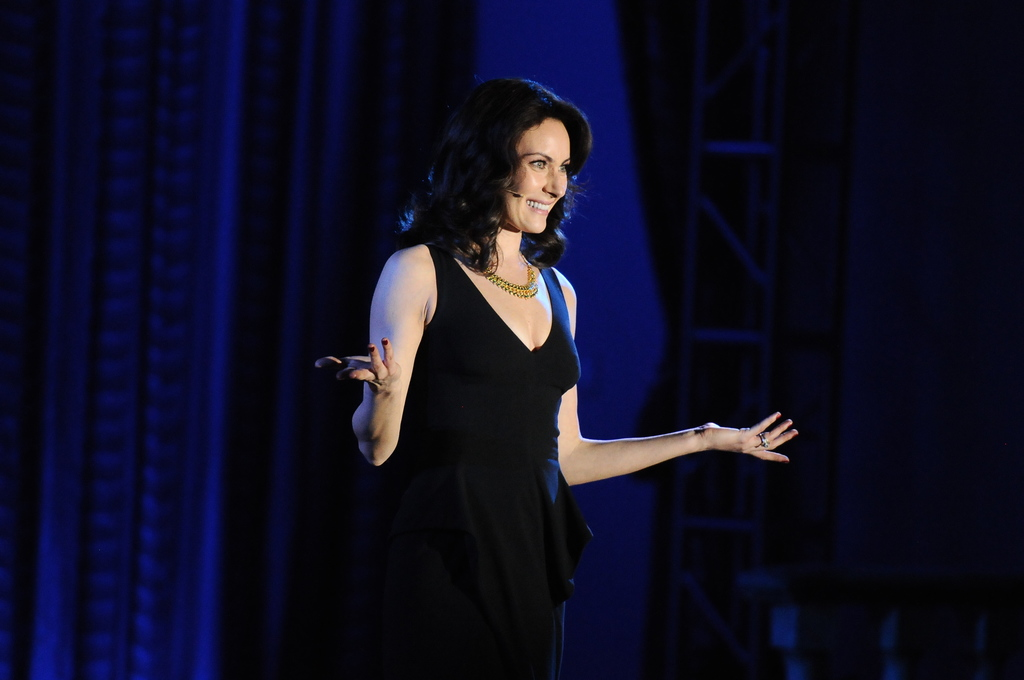Human_hand: (705, 409, 803, 465), (315, 340, 401, 386)
